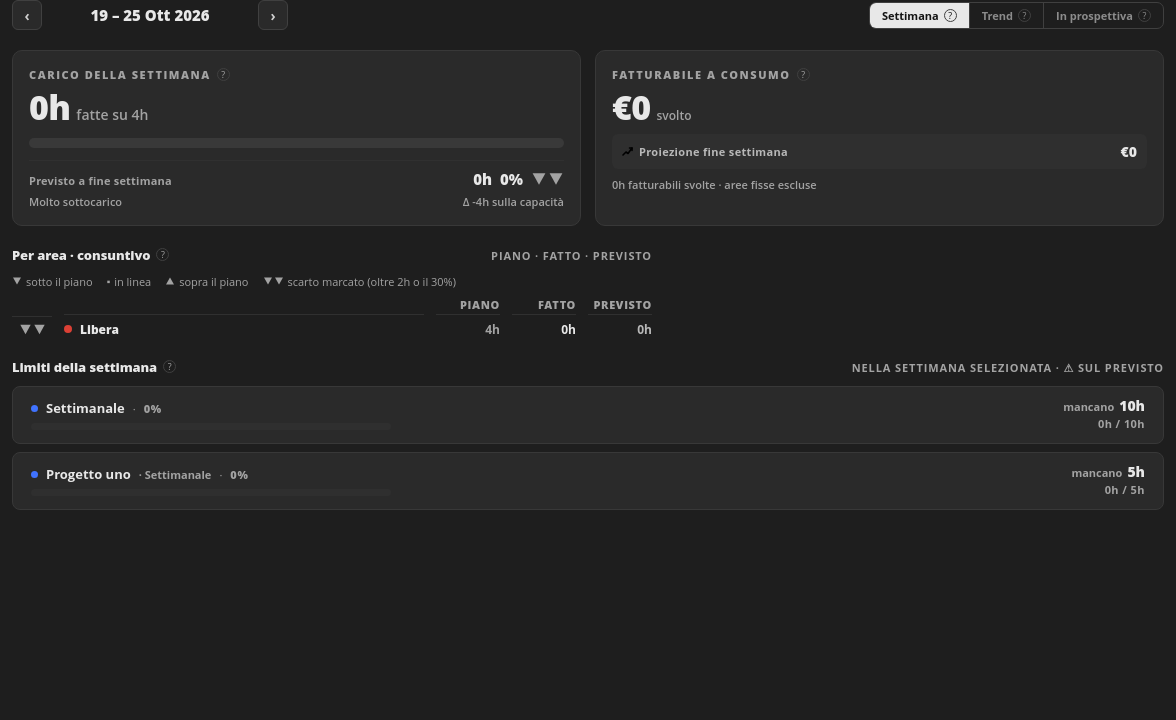
Scenario: ProgressScreen / Trend: Da decidere › la card dice il verdetto a parole, le due medie e cosa fare
This screenshot has width=1176, height=720.
Click the button "Trend": x=997, y=15 [982,8,1013,22]
(page scrolled)
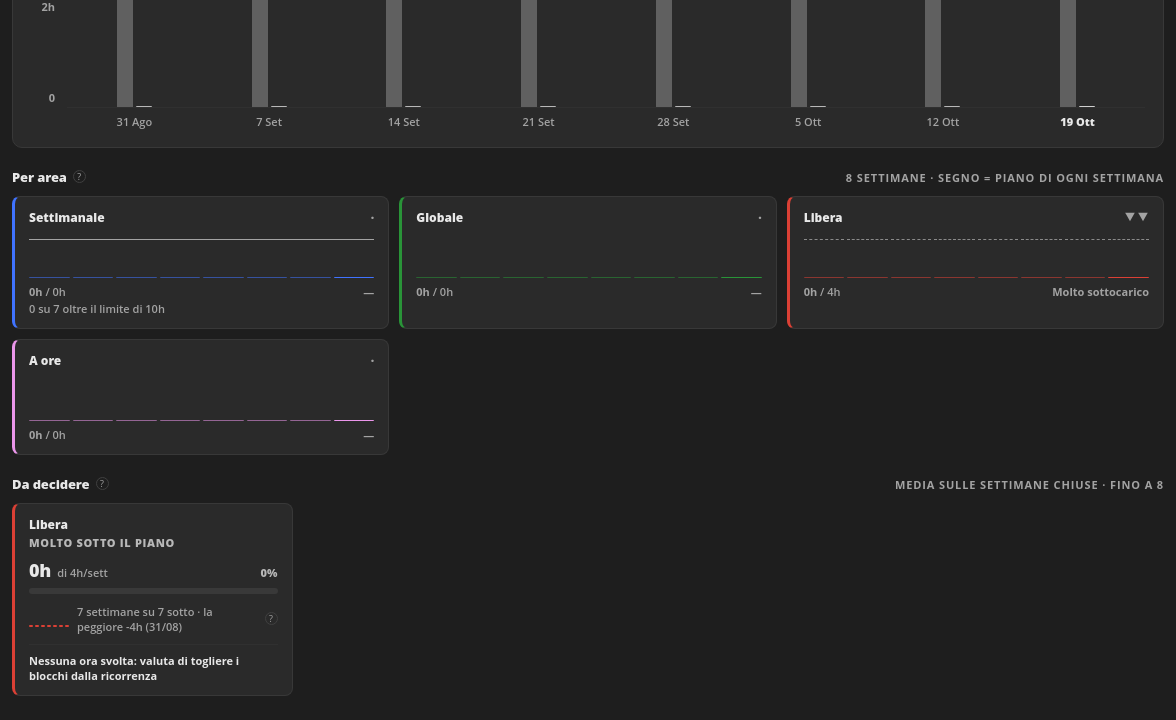
Expected: the text "media sulle settimane chiuse · fino a 8" is shown, [895,476,1164,492]
Expected: the text "Libera" below "Da decidere" is shown, [29,516,68,532]
Expected: the text "di 4h/sett" is shown, [57,564,108,580]
